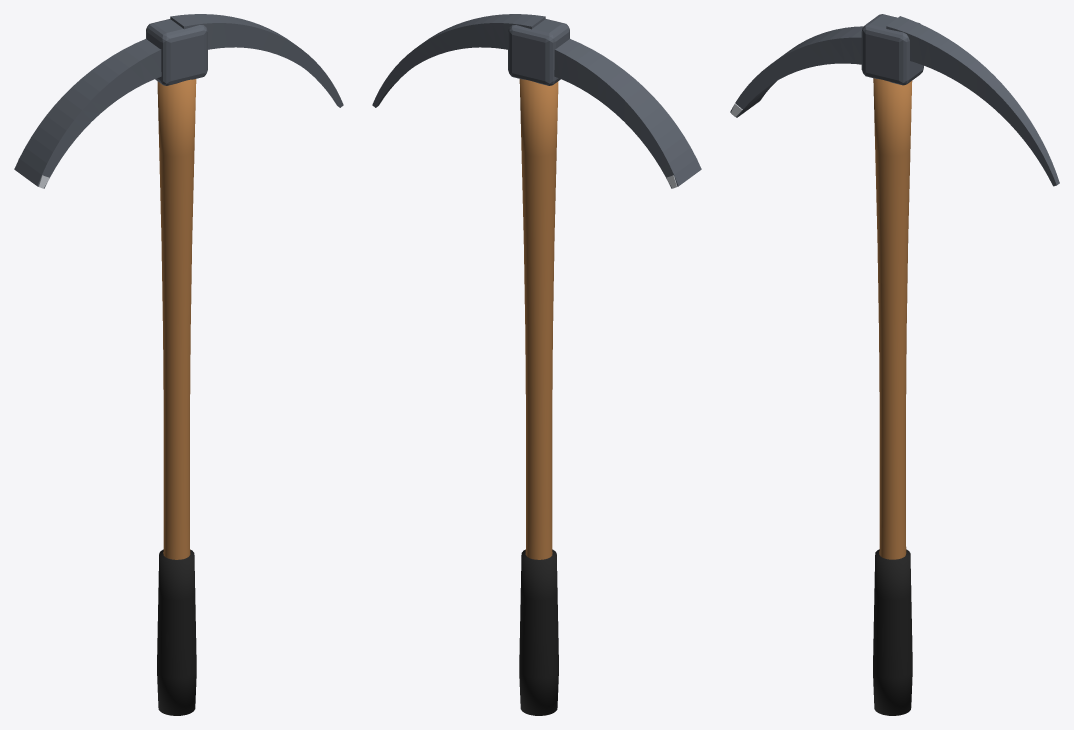
Rendered from Tool_5_Pickaxe.glb.
The picture shows the model from 3 angles, left to right: view 1: azimuth 30°, elevation 25°; view 2: azimuth 150°, elevation 25°; view 3: azimuth 330°, elevation 25°; orthographic projection.
Visible parts, largest first — view 1: Handle, Head, Grip; view 2: Handle, Head, Grip; view 3: Handle, Head, Grip.
Part boxes in pixels (left/top/right/bottom): Handle: left=157, top=79, right=196, bottom=559; Head: left=14, top=14, right=343, bottom=188; Grip: left=157, top=549, right=196, bottom=715; Handle: left=519, top=79, right=558, bottom=559; Head: left=372, top=14, right=701, bottom=188; Grip: left=519, top=549, right=558, bottom=715; Handle: left=873, top=78, right=912, bottom=559; Head: left=730, top=14, right=1059, bottom=186; Grip: left=873, top=549, right=912, bottom=715.
Bounding box in the file's own units: 0.4733 × 0.981 × 0.062.
